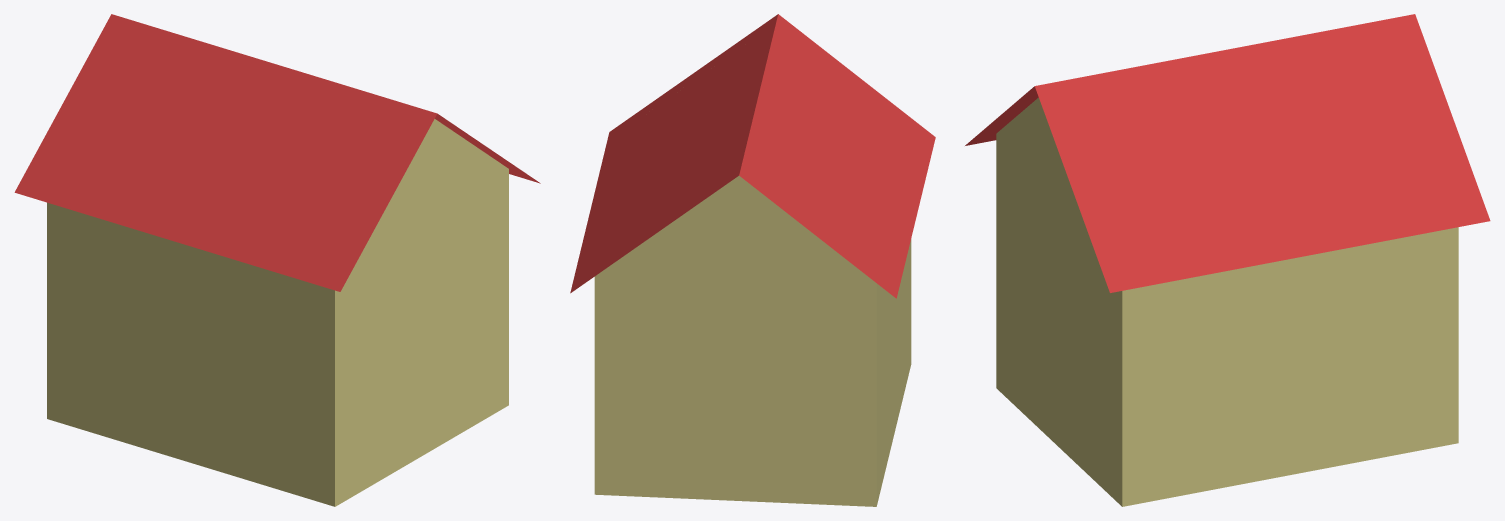
3 views of the same model, side by side, from view 1: azimuth 30°, elevation 25°; view 2: azimuth 150°, elevation 25°; view 3: azimuth 270°, elevation 25° (orthographic). The views are drawn at different scales.
Size of the model in its own units: 15.33 by 16.28 by 12.41.
